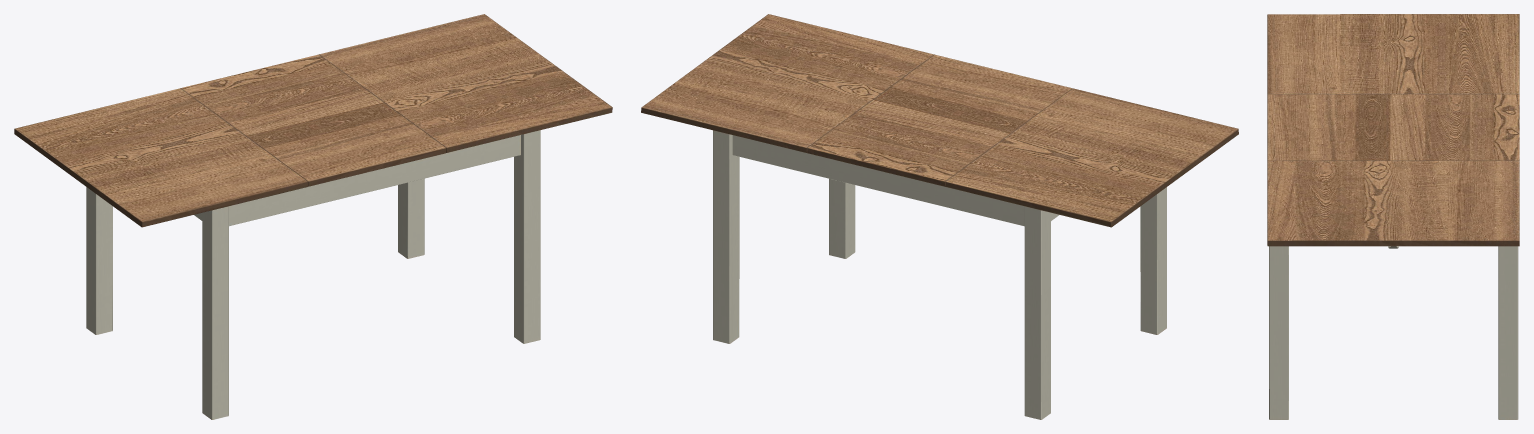
The model's file is dining_table_wood_60597921.glb.
3 renders of one model, left to right at view 1: azimuth 30°, elevation 25°; view 2: azimuth 150°, elevation 25°; view 3: azimuth 270°, elevation 25°, orthographic.
Visible parts, largest first — view 1: ASY_ART_60597921_S01_NV01; view 2: ASY_ART_60597921_S01_NV01; view 3: ASY_ART_60597921_S01_NV01.
Part boxes in pixels (bbox=[...]): ASY_ART_60597921_S01_NV01: bbox=[14, 14, 612, 419]; ASY_ART_60597921_S01_NV01: bbox=[641, 14, 1238, 419]; ASY_ART_60597921_S01_NV01: bbox=[1267, 14, 1519, 419].
Bounding box in the file's own units: 1.7 × 0.7491 × 0.8009.
1 material, 1 textured.
